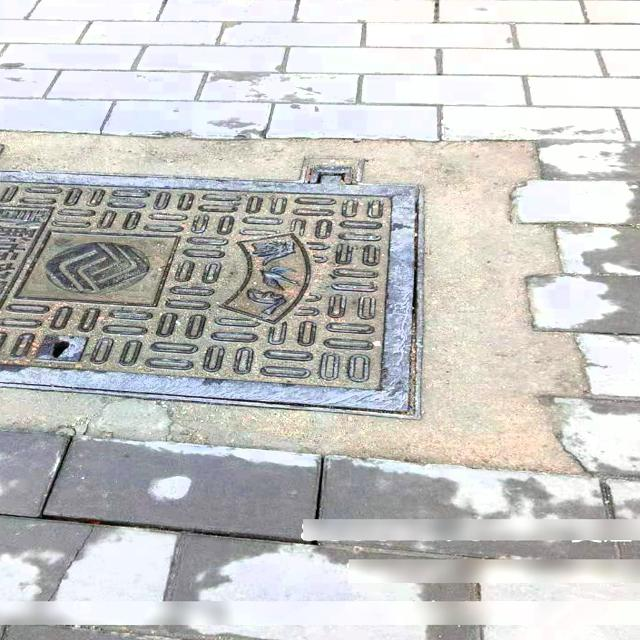good: (0, 152, 452, 411)
